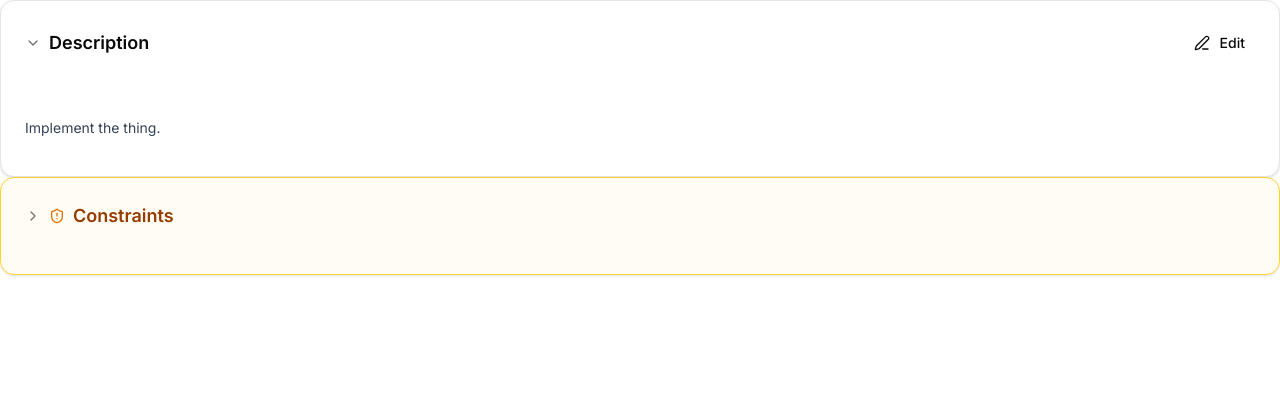
Test case: TaskDescription › renders task.constraints in its own distinctly-styled, collapsible section
Expected: the text "Implement the thing." is shown, [25,119,160,136]
Expected: the text "Route handlers must stay thin" is not shown
Click the button "Constraints" at (123,215), box [25,202,1255,230]
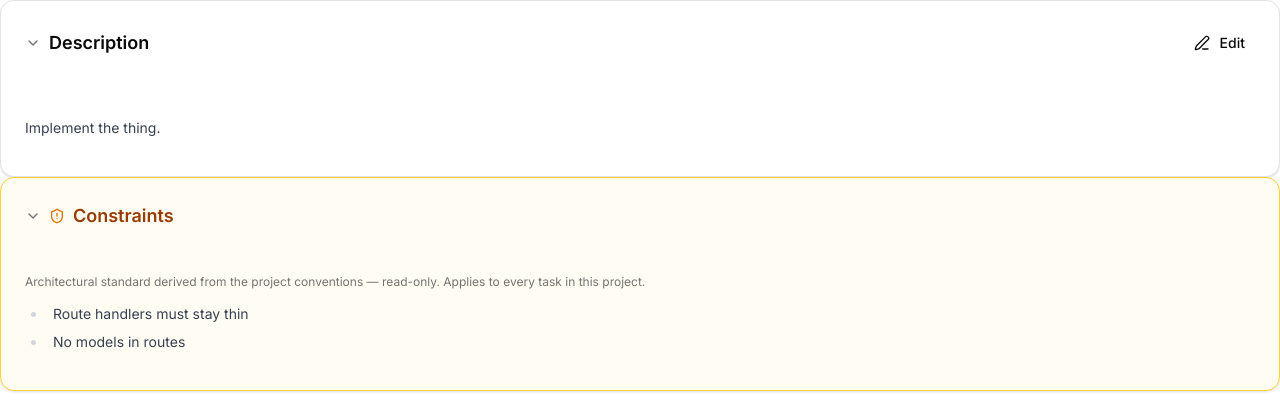
Expected: the text "Implement the thing." is shown, [25,119,160,136]
Result: the button "Constraints" is expanded at [25,202,1255,230]
Result: the list item "Route handlers must stay thin" is shown at [53,305,249,322]
